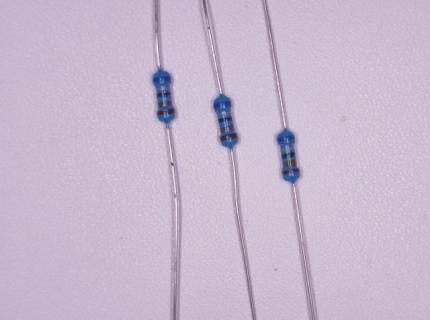Black band: (282, 152, 295, 159), (218, 117, 232, 123), (157, 92, 171, 97)
Blue band: (214, 101, 231, 108), (153, 76, 171, 82), (278, 135, 295, 141)
Brown band: (219, 133, 237, 141), (157, 108, 175, 115), (282, 169, 299, 175)
Grey band: (157, 86, 170, 91), (281, 146, 294, 151), (218, 112, 231, 116)
Orange band: (219, 125, 234, 132), (158, 101, 172, 108), (283, 159, 296, 166)
